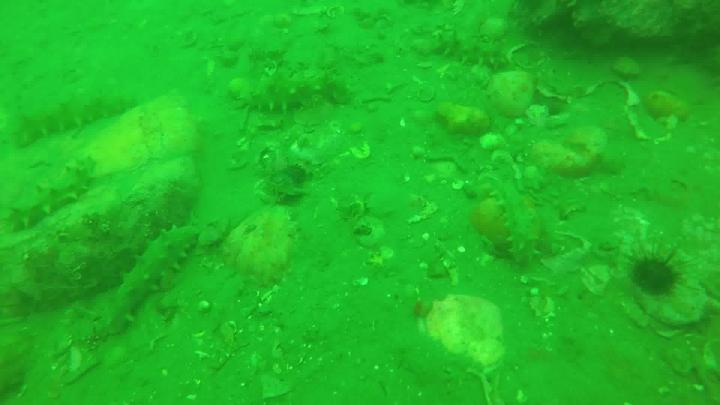echinus: (629, 244, 687, 304)
holothurian: (81, 227, 234, 335), (6, 156, 111, 233), (16, 92, 140, 144), (479, 180, 541, 265), (246, 73, 342, 113), (437, 29, 504, 72)
scallop: (293, 131, 354, 166), (355, 219, 386, 246), (482, 131, 511, 150)
